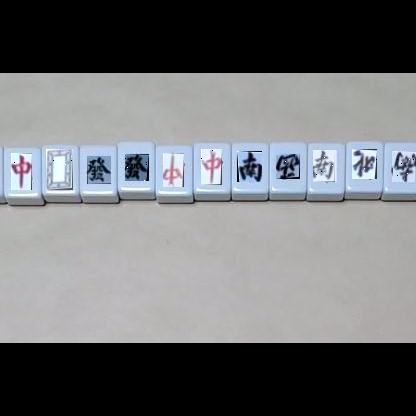2z: (314, 150, 340, 183), (237, 151, 262, 182), (392, 151, 416, 182)
3z: (276, 154, 300, 179)
4z: (352, 149, 377, 179)
5z: (46, 149, 73, 190)
6z: (87, 156, 111, 184), (125, 154, 149, 181)
7z: (11, 153, 32, 190), (201, 149, 222, 185), (163, 153, 184, 187)
